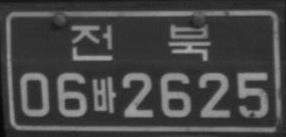0: (19, 71, 50, 117)
2: (198, 72, 231, 118), (121, 71, 153, 118)
5: (236, 70, 269, 119)
6: (56, 71, 88, 118), (160, 71, 191, 118)
바: (92, 75, 116, 113)
전북_D: (70, 22, 211, 61)
